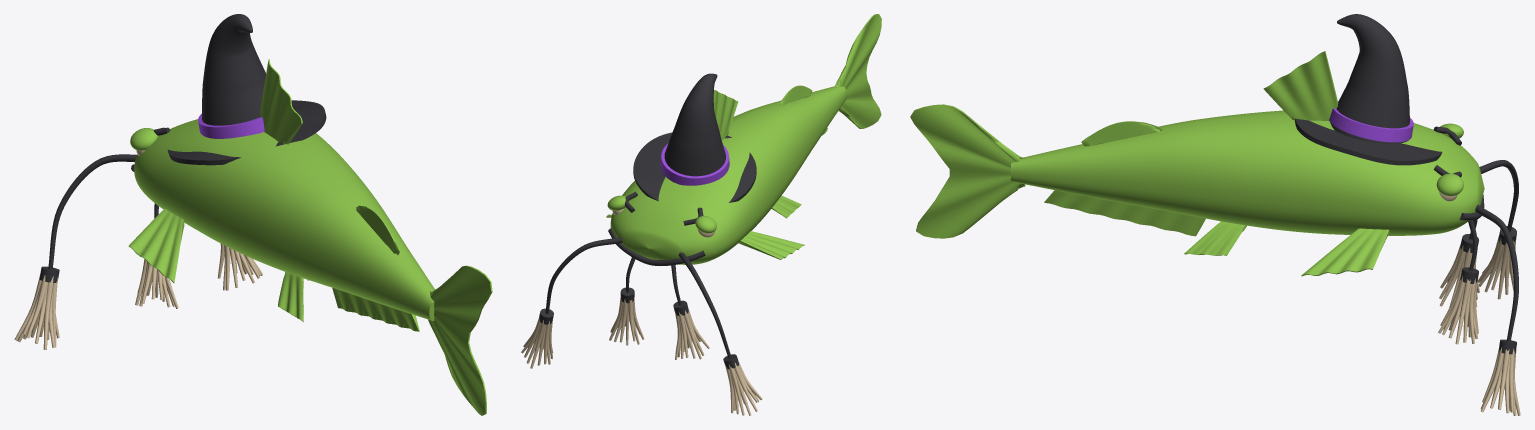
Rendered from FISH_WITCHCATFISH.glb.
3 renders of one model, left to right at view 1: azimuth 30°, elevation 25°; view 2: azimuth 150°, elevation 25°; view 3: azimuth 270°, elevation 25°, orthographic. The views are drawn at different scales.
Parts seen in each view (by area): view 1: Body_body, Hat_Crown, Fin_Tail, Fin_Pectoral, Fin_Dorsal, Hat_Brim, Fin_Anal, Barbel_Long, Hat_Band, Fin_Pelvic, Fin_Adipose, Eyelid; view 2: Body_body, Hat_Crown, Fin_Tail, Hat_Brim, Barbel_Long (×2), Fin_Pectoral, Hat_Band, Fin_Dorsal, Mouth, Fin_Pelvic, Fin_Adipose; view 3: Body_body, Fin_Tail, Hat_Crown, Fin_Dorsal, Fin_Anal, Hat_Brim, Fin_Pectoral, Barbel_Long (×2), Hat_Band, Fin_Pelvic, Fin_Adipose.
Boxes of the visible parts, bbox=[...] form: Body_body: bbox=[134, 119, 435, 321]; Hat_Crown: bbox=[202, 14, 265, 125]; Fin_Tail: bbox=[428, 265, 492, 415]; Fin_Pectoral: bbox=[128, 208, 184, 282]; Fin_Dorsal: bbox=[260, 59, 302, 144]; Hat_Brim: bbox=[167, 100, 326, 165]; Fin_Anal: bbox=[332, 288, 419, 331]; Barbel_Long: bbox=[48, 154, 137, 269]; Hat_Band: bbox=[198, 113, 264, 138]; Fin_Pelvic: bbox=[278, 272, 303, 321]; Fin_Adipose: bbox=[356, 205, 399, 254]; Eyelid: bbox=[130, 128, 158, 150]; Body_body: bbox=[610, 86, 846, 264]; Hat_Crown: bbox=[664, 73, 725, 182]; Fin_Tail: bbox=[835, 14, 881, 128]; Hat_Brim: bbox=[633, 132, 756, 202]; Barbel_Long (×2): bbox=[545, 237, 731, 358]; Fin_Pectoral: bbox=[738, 231, 804, 259]; Hat_Band: bbox=[660, 143, 729, 185]; Fin_Dorsal: bbox=[713, 90, 738, 139]; Mouth: bbox=[608, 228, 705, 265]; Fin_Pelvic: bbox=[771, 195, 801, 218]; Fin_Adipose: bbox=[779, 85, 812, 105]; Body_body: bbox=[1011, 110, 1484, 235]; Fin_Tail: bbox=[910, 104, 1025, 238]; Hat_Crown: bbox=[1330, 14, 1409, 143]; Fin_Dorsal: bbox=[1263, 51, 1338, 121]; Fin_Anal: bbox=[1044, 190, 1205, 236]; Hat_Brim: bbox=[1295, 118, 1442, 165]; Fin_Pectoral: bbox=[1301, 228, 1389, 276]; Barbel_Long (×2): bbox=[1475, 160, 1518, 341]; Hat_Band: bbox=[1329, 101, 1413, 142]; Fin_Pelvic: bbox=[1184, 221, 1246, 255]; Fin_Adipose: bbox=[1081, 121, 1162, 146].
Bounding box in the file's own units: 2.35 × 2.57 × 4.25.
